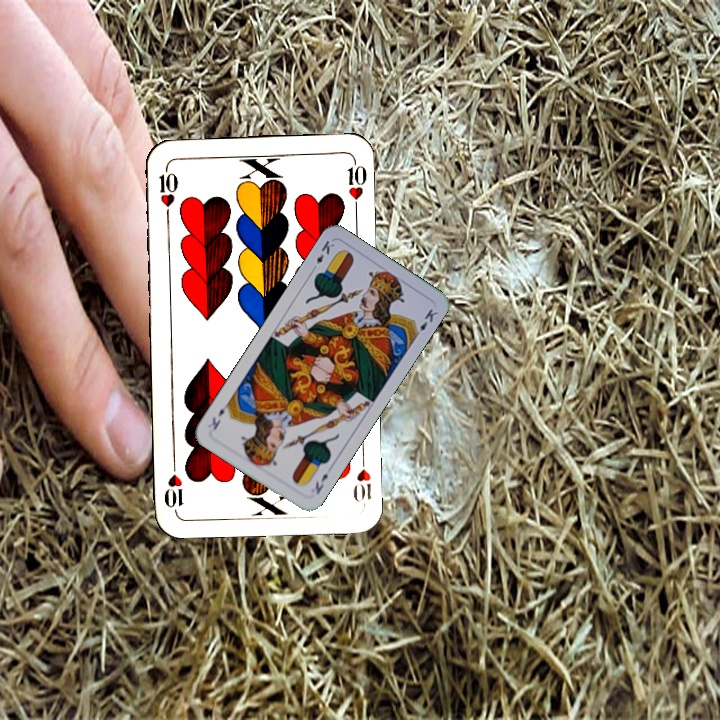EK: (307, 236, 337, 274), (311, 469, 331, 497)
H10: (155, 163, 180, 222), (349, 448, 374, 504)
